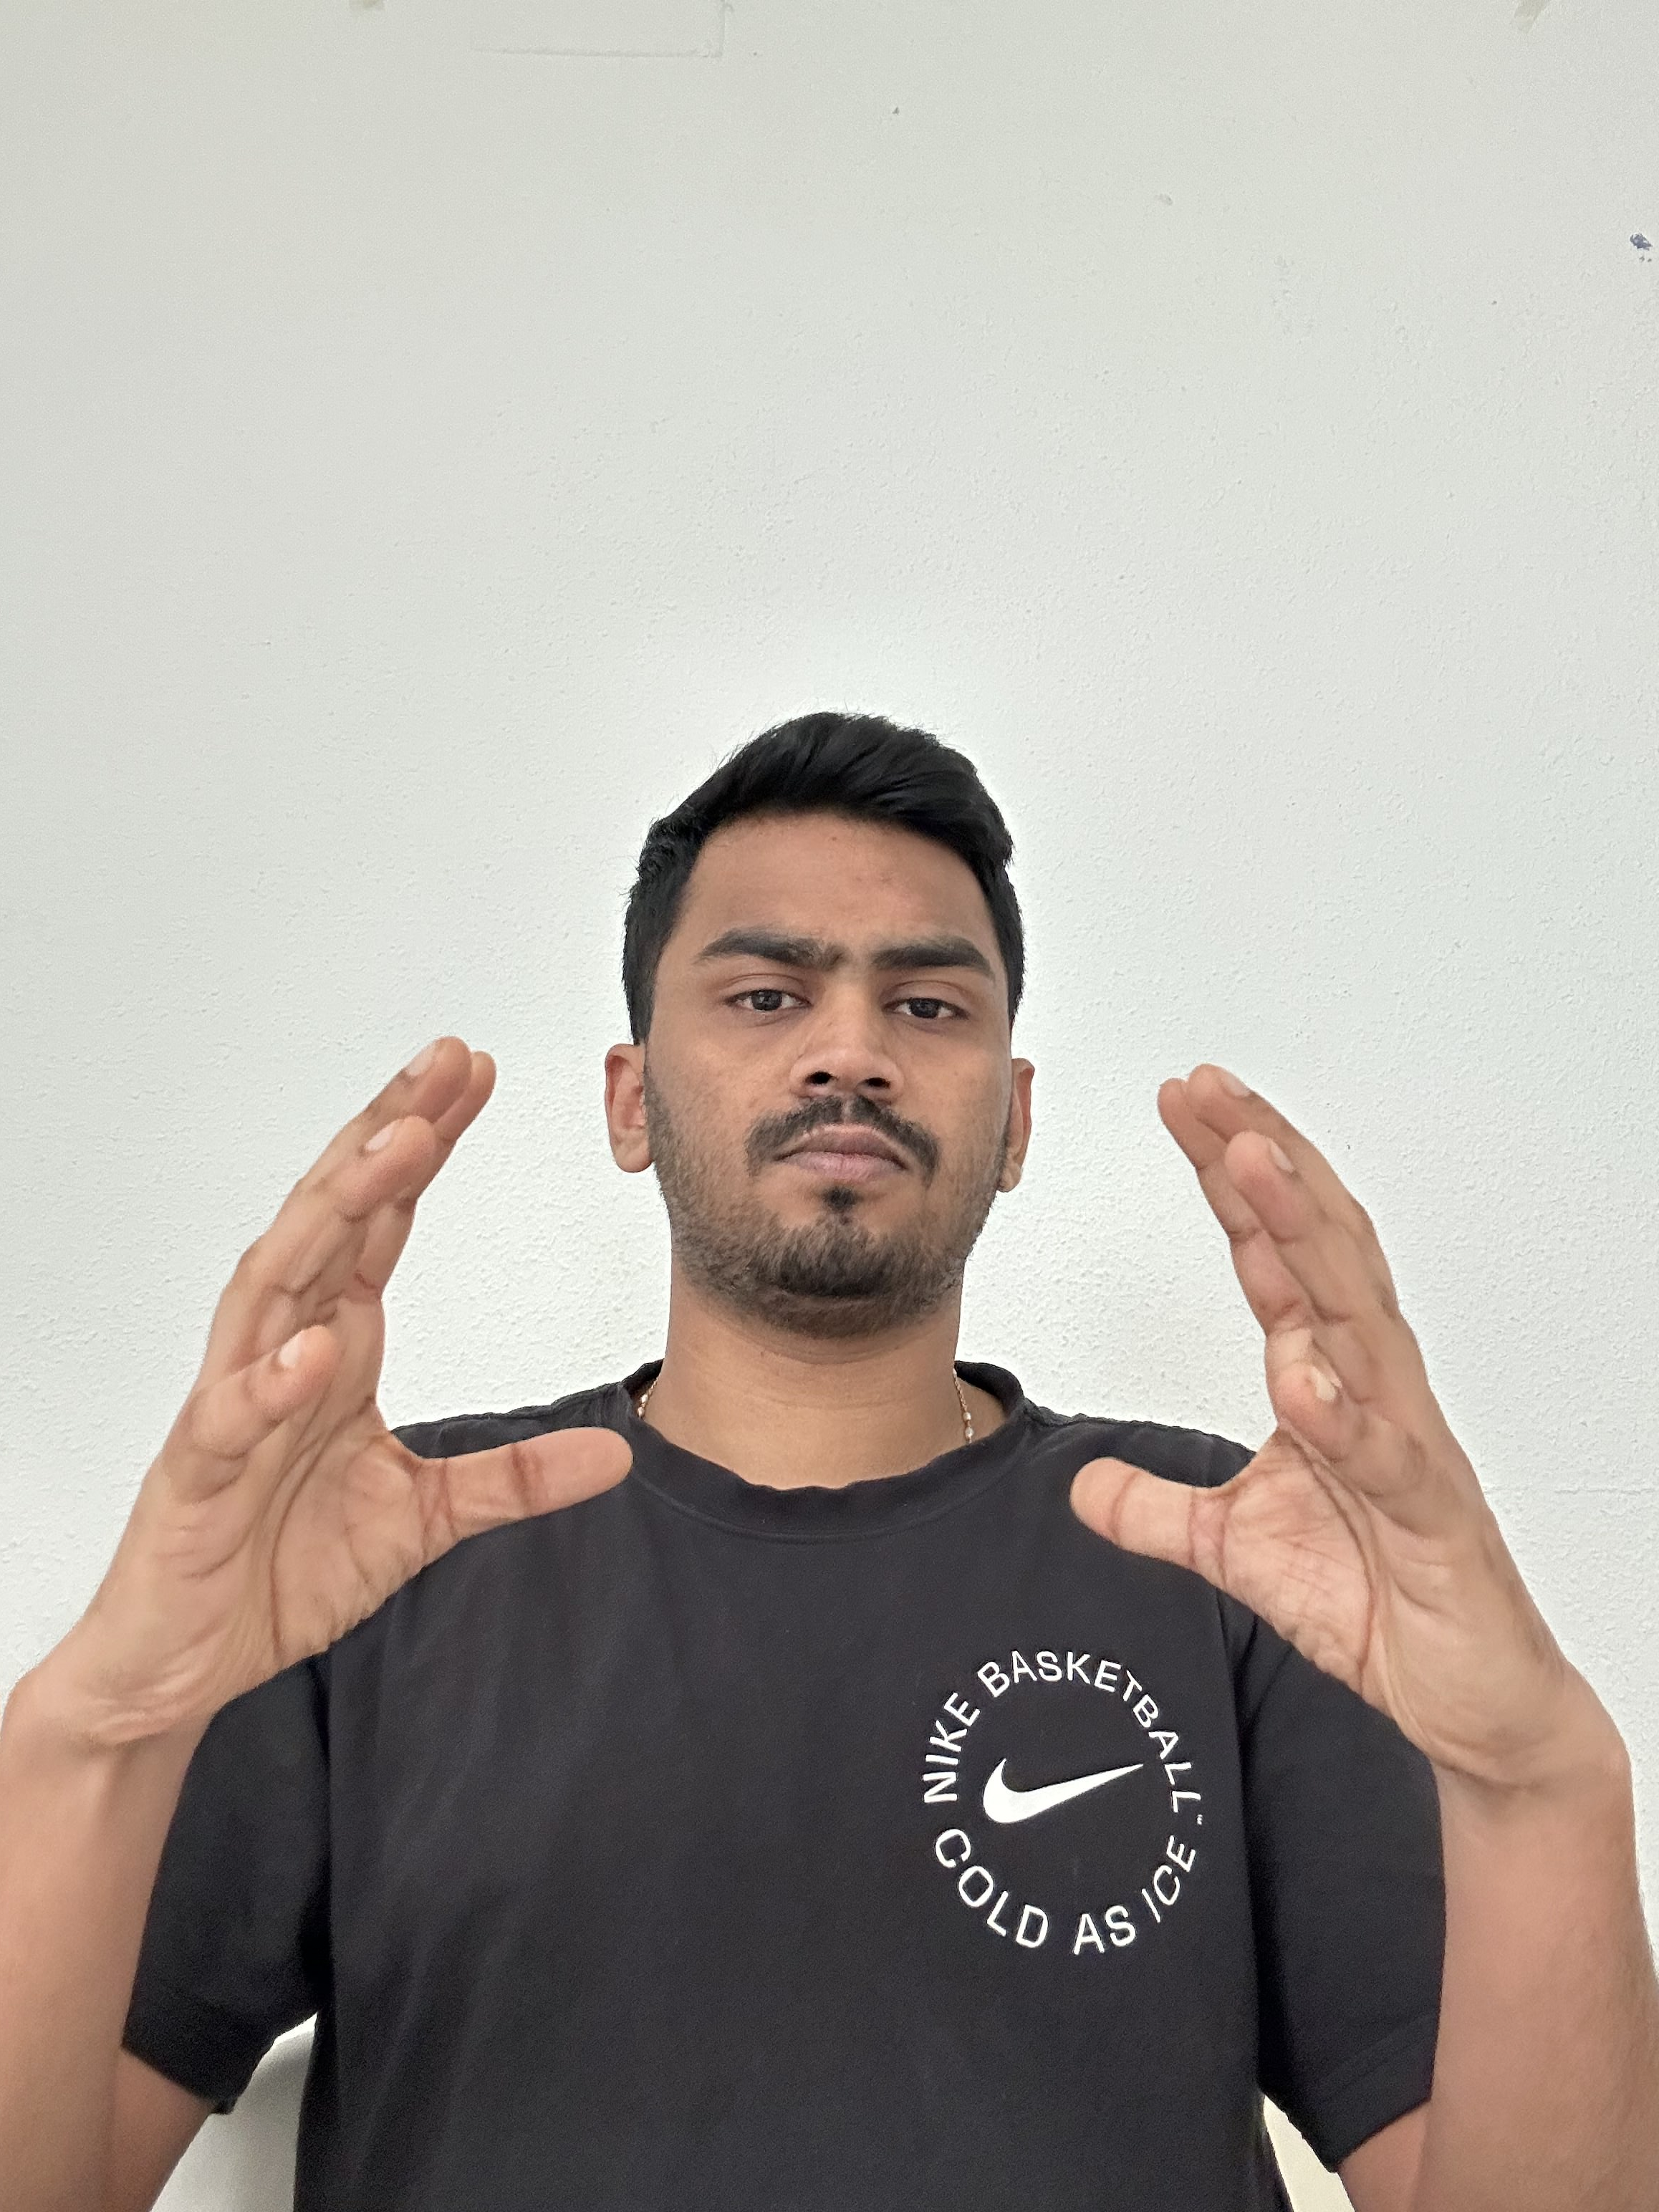explode: (9, 707, 1649, 2203), (913, 1639, 1209, 1965)
